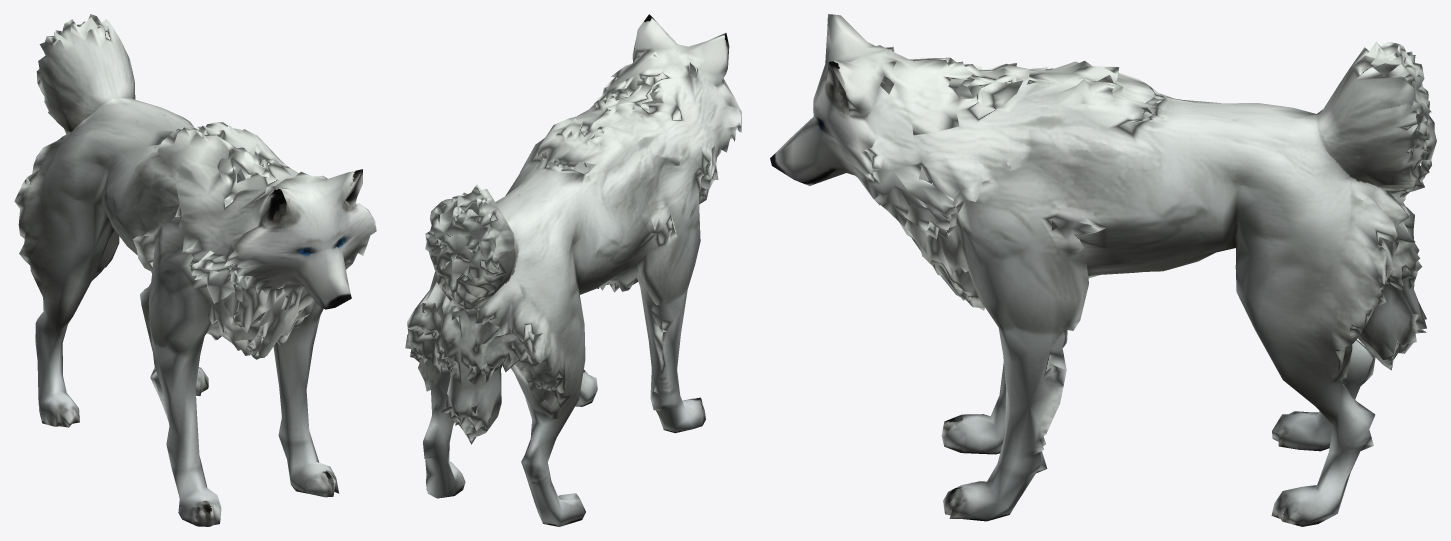
Rendered from snowwolf.glb.
The picture shows the model from 3 angles, left to right: view 1: azimuth 30°, elevation 25°; view 2: azimuth 150°, elevation 25°; view 3: azimuth 270°, elevation 25°; orthographic projection. The views are drawn at different scales.
Parts seen in each view (by area): view 1: Creature; view 2: Creature; view 3: Creature.
Boxes of the visible parts, <box> form: Creature: <box>14,14,376,526</box>; Creature: <box>405,14,741,526</box>; Creature: <box>770,14,1436,526</box>.
Size of the model in its own units: 0.448 by 0.9525 by 1.3.
Materials: 1 (1 with a texture image).
